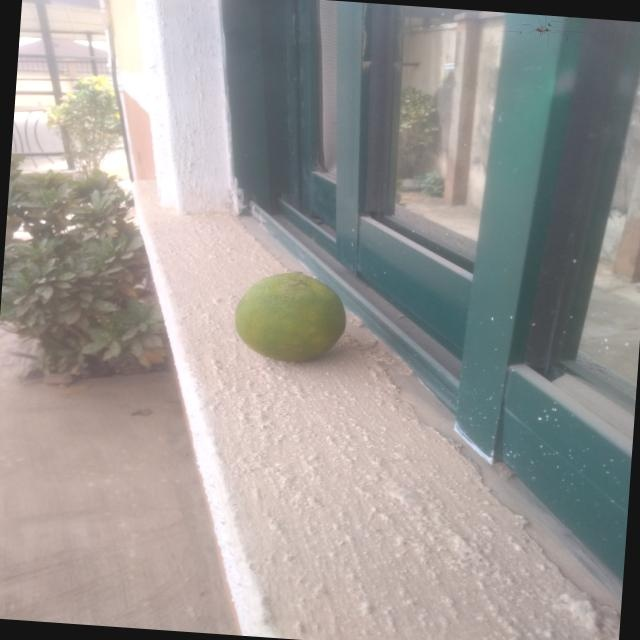agrume: (204, 255, 396, 390)
